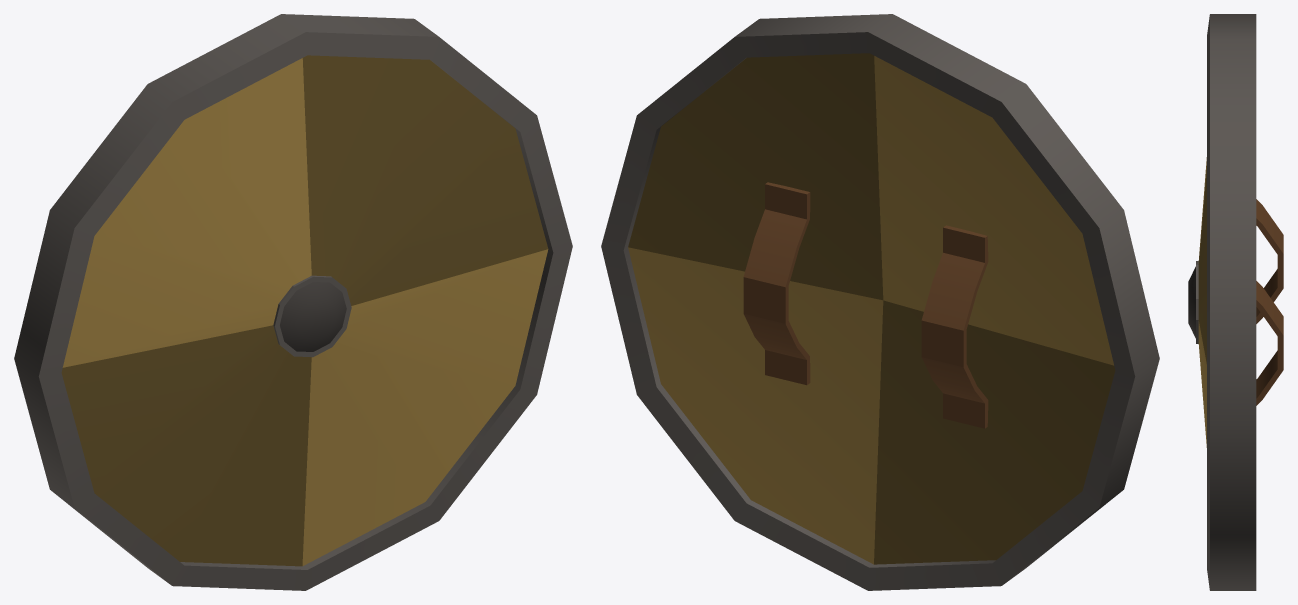
Rendered from Round Shield_Yellow.glb.
3 renders of one model, left to right at view 1: azimuth 30°, elevation 25°; view 2: azimuth 150°, elevation 25°; view 3: azimuth 270°, elevation 25°, orthographic. The views are drawn at different scales.
Parts seen in each view (by area): view 1: Round Shield_Yellow; view 2: Round Shield_Yellow; view 3: Round Shield_Yellow.
Boxes of the visible parts, x1,y1,x2,y2 form: Round Shield_Yellow: (14,14,572,590); Round Shield_Yellow: (601,14,1159,590); Round Shield_Yellow: (1188,14,1283,590).
Bounding box in the file's own units: 0.6 × 0.6 × 0.0987.
Materials: 1 (1 with a texture image).
